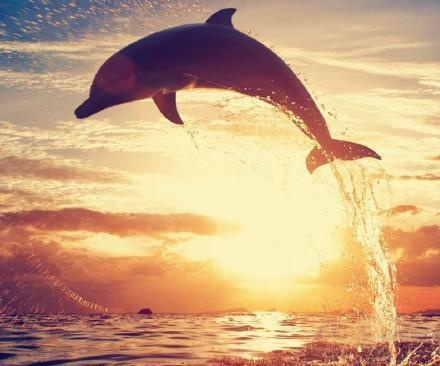fish: (71, 7, 386, 173)
